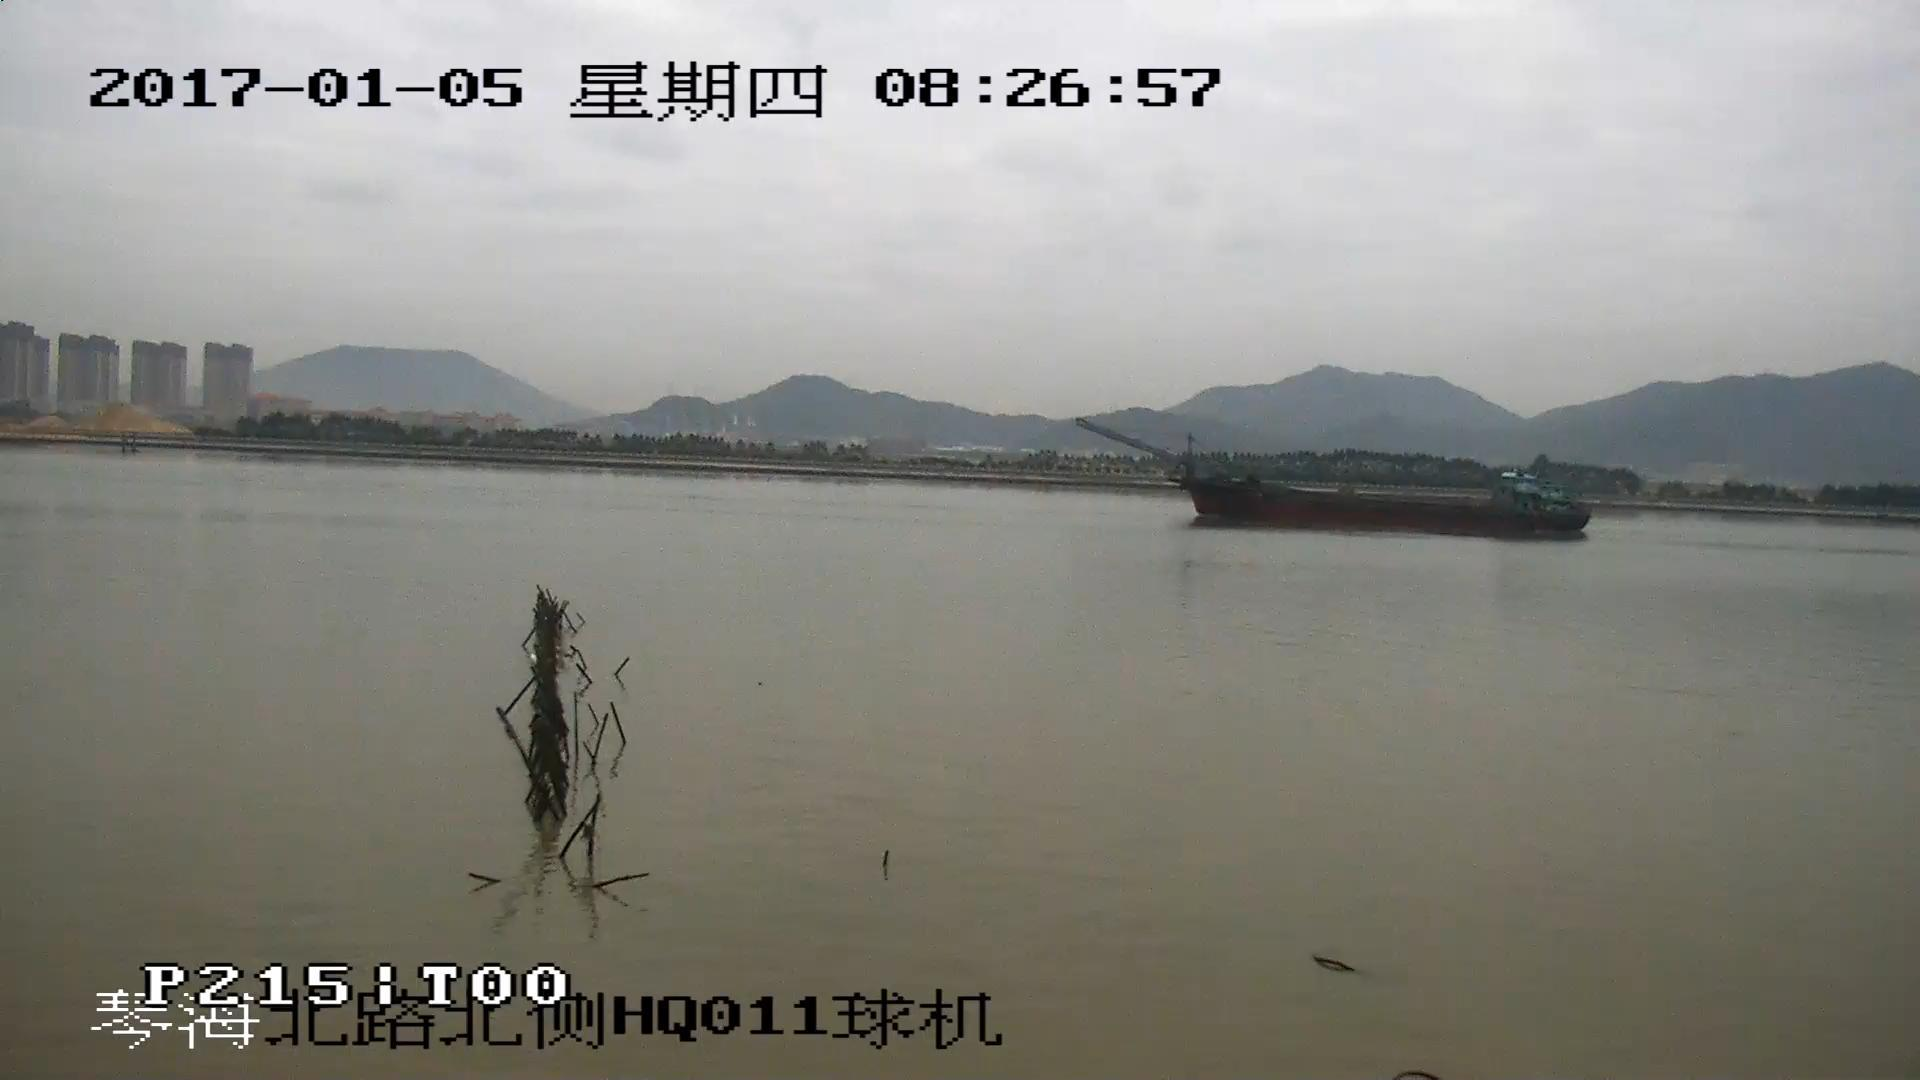Ship: (1083, 421, 1589, 535)
